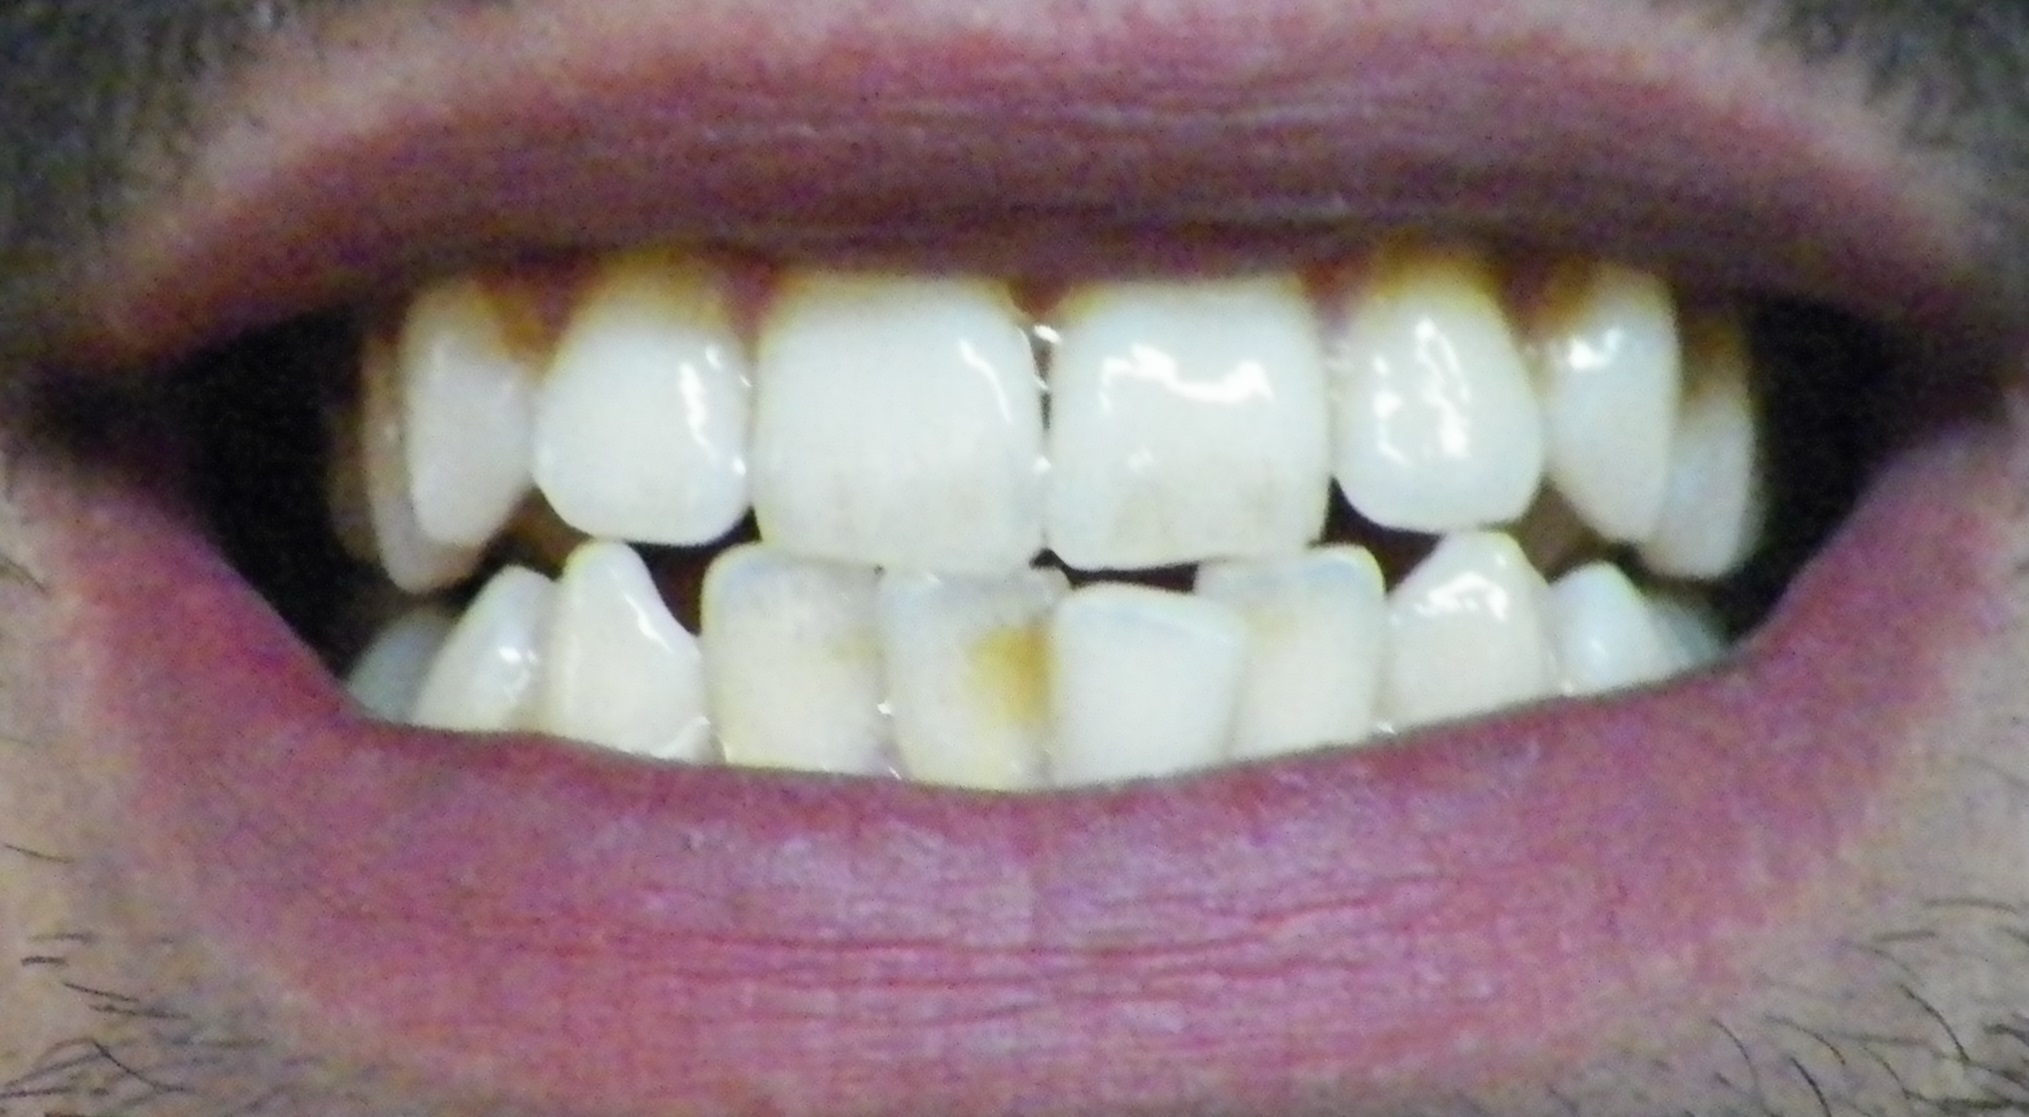boca: (299, 271, 1781, 776)
